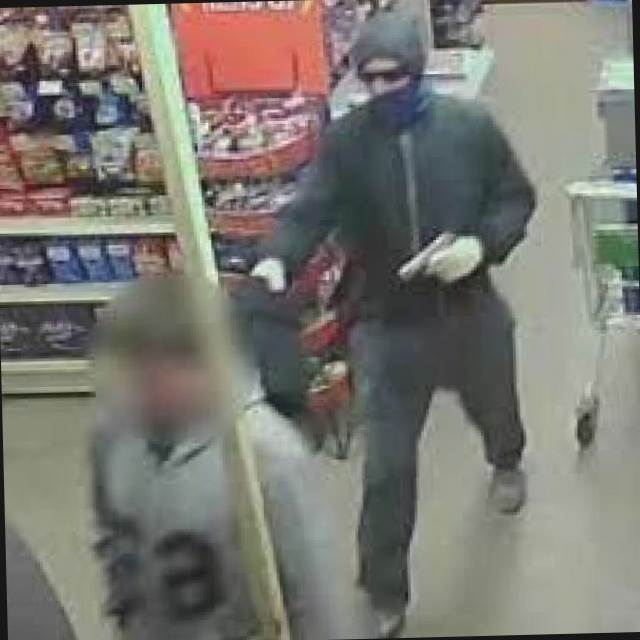gun: (393, 213, 483, 295)
